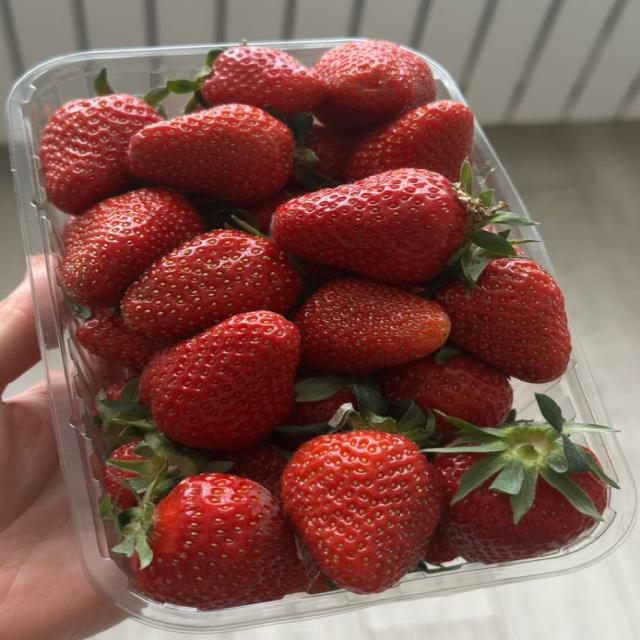strawberry: (434, 396, 616, 563), (281, 430, 442, 593), (132, 473, 313, 609), (273, 169, 468, 284), (141, 311, 299, 451), (121, 230, 301, 339), (60, 188, 203, 307), (434, 258, 571, 382), (127, 104, 293, 206), (294, 277, 449, 374), (40, 94, 163, 213), (314, 40, 435, 131), (346, 100, 473, 181), (377, 353, 513, 426), (200, 46, 324, 116), (274, 376, 356, 450), (75, 308, 167, 371), (224, 442, 287, 496), (287, 381, 355, 426), (305, 122, 354, 182), (247, 188, 305, 234), (423, 508, 459, 564), (103, 464, 139, 509), (61, 215, 91, 253), (105, 378, 133, 400)
